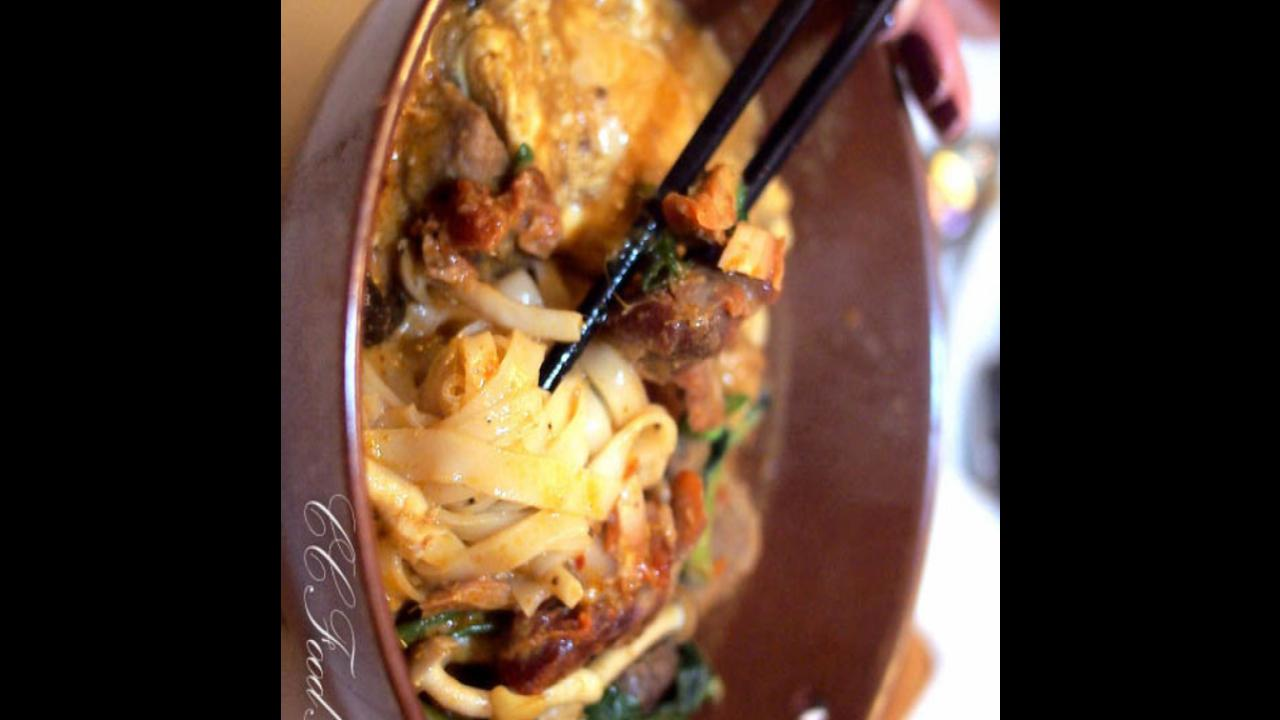chopstick: (539, 0, 973, 395)
